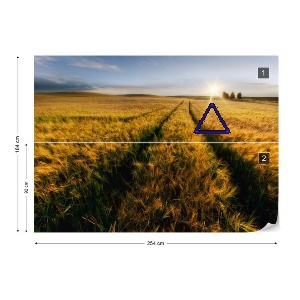triangle: (192, 99, 233, 137)
